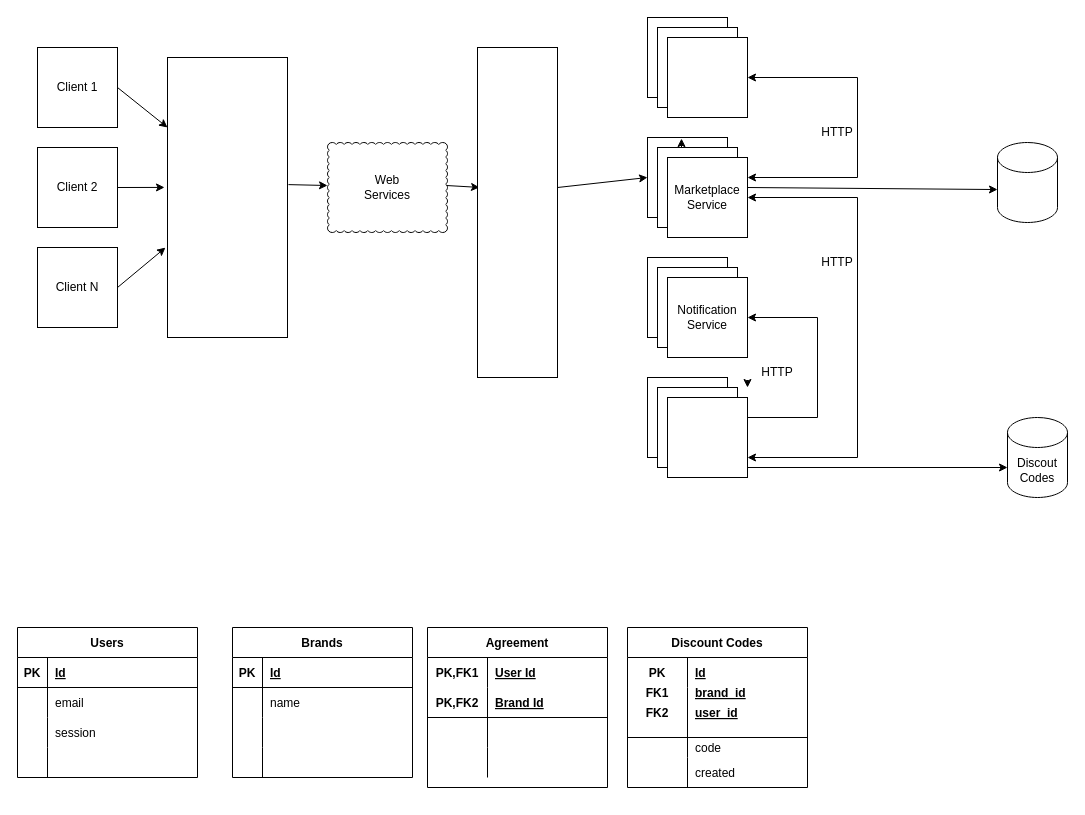
This 1085x815 diagram has some shape labels left out. Each missing label, with the centre of its shape:
"Authentication Service" belongs at pixel 707 77.
"Balance Loader" belongs at pixel 227 197.
"Discount Generation Service" belongs at pixel 707 437.
"Traffic Limitation" belongs at pixel 517 212.
"Users Brands" belongs at pixel 1027 182.
